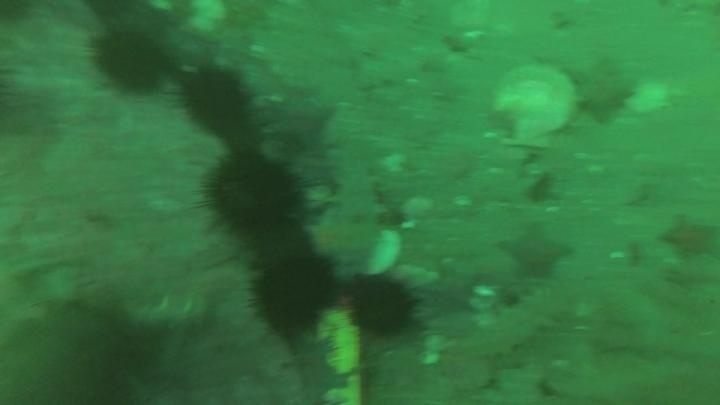echinus: (8, 309, 152, 404), (202, 153, 303, 237), (251, 255, 337, 337), (89, 27, 169, 95), (178, 67, 252, 136), (347, 277, 418, 340), (83, 1, 147, 26)
holothurian: (308, 133, 389, 276), (456, 285, 577, 365), (121, 292, 211, 336)
scallop: (489, 63, 579, 147)
starfish: (562, 55, 638, 124), (496, 222, 574, 283), (282, 333, 349, 403), (264, 93, 335, 152), (659, 213, 718, 262)
